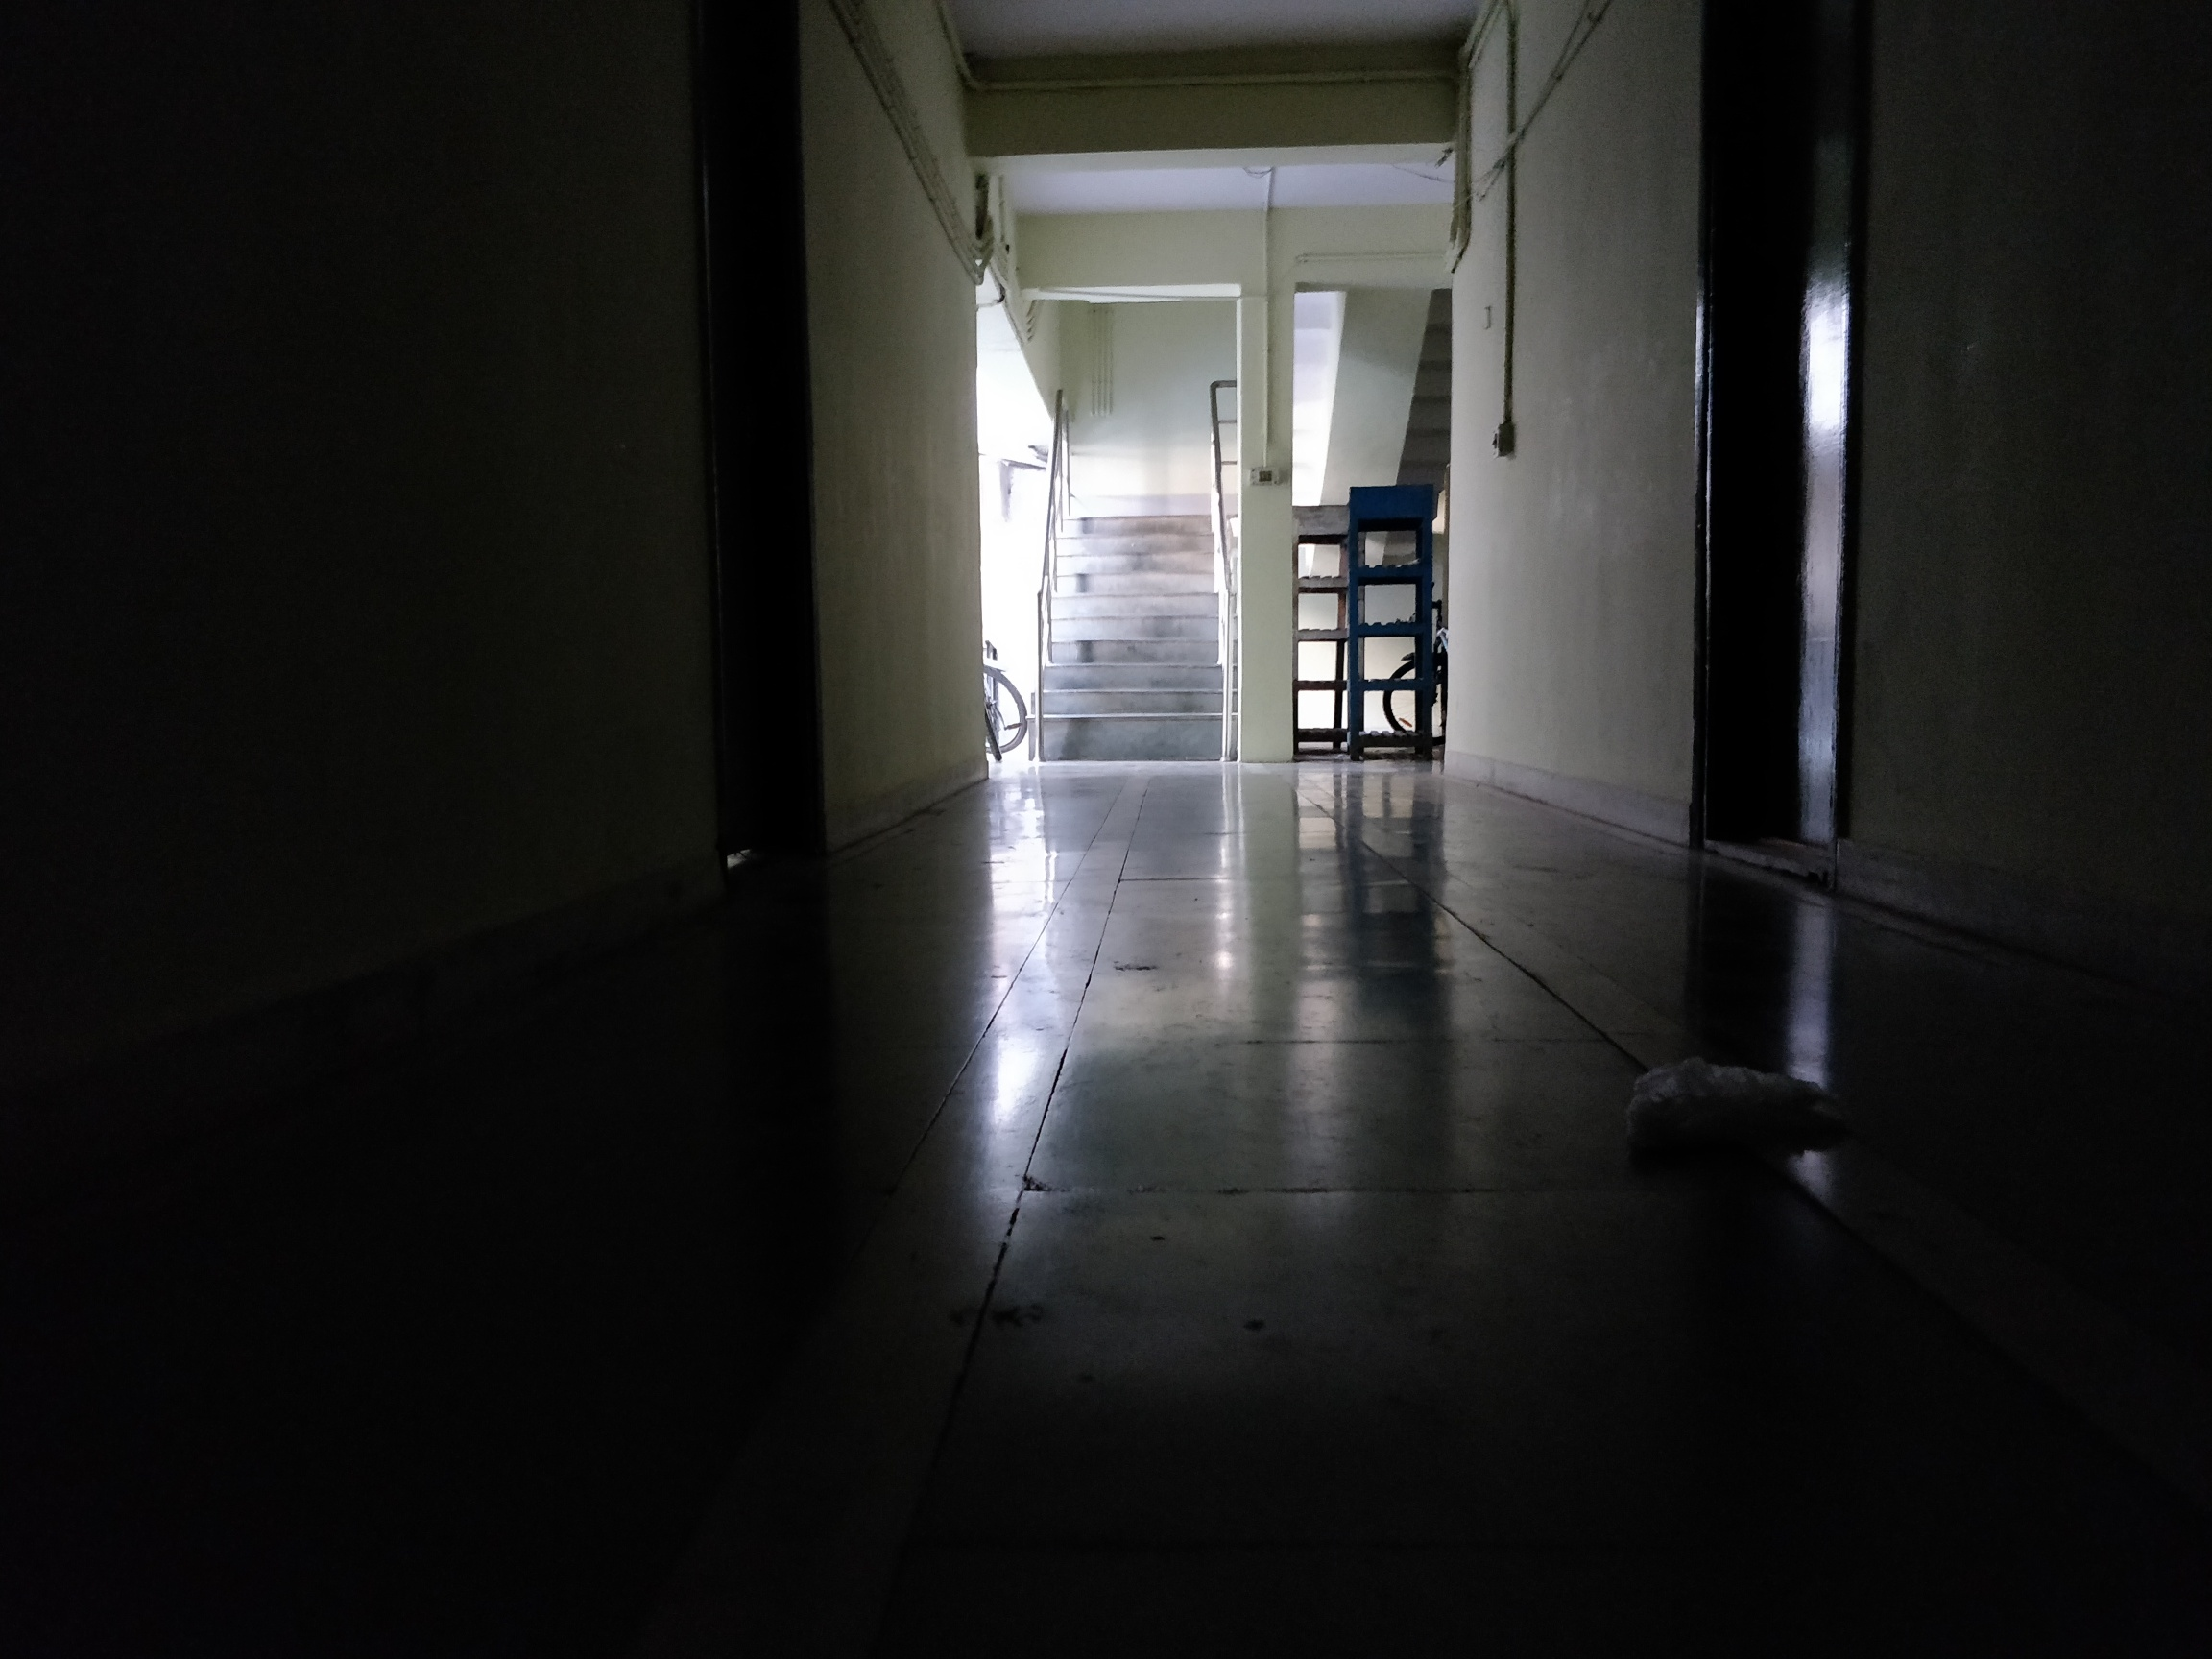stairs_up: (1042, 516, 1245, 753)
